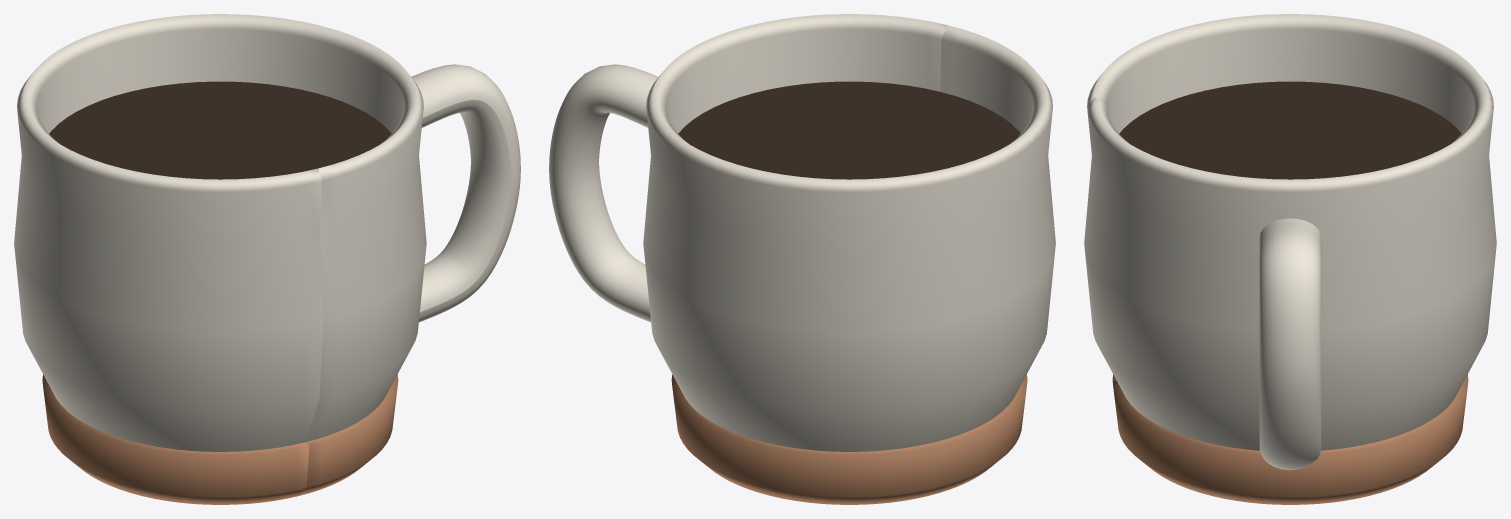
The model's file is handmade_coffee_mug.glb.
The picture shows the model from 3 angles, left to right: view 1: azimuth 30°, elevation 25°; view 2: azimuth 150°, elevation 25°; view 3: azimuth 270°, elevation 25°; orthographic projection.
Size of the model in its own units: 2.03 by 1.4 by 1.53.
